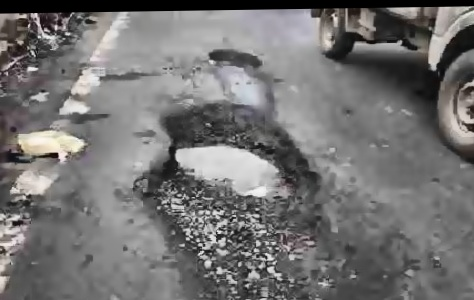pothole: (135, 99, 323, 300), (208, 46, 262, 68)
